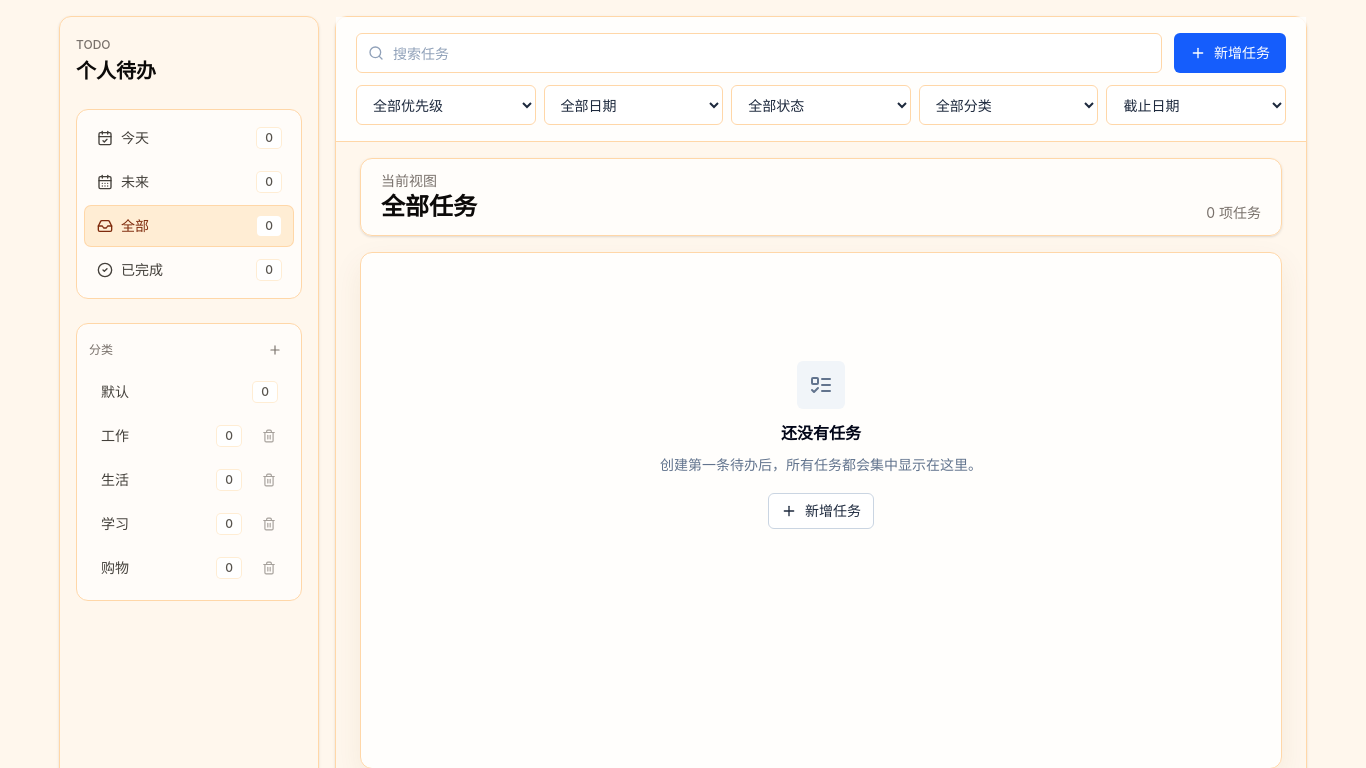
Test case: App layout › creates and edits a todo from the editor
This screenshot has width=1366, height=768.
Click the 1st button "新增任务" at (1230,53), box [1174,33,1286,73]
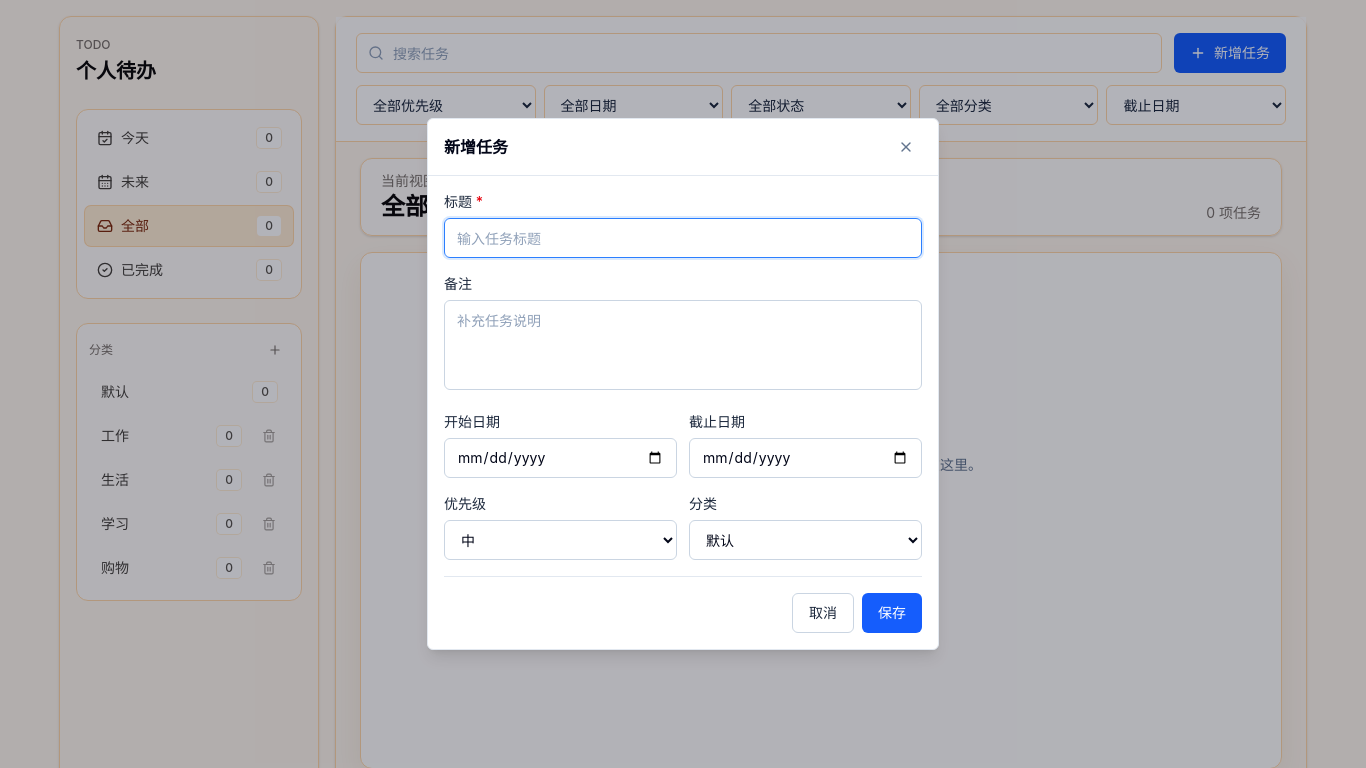
Type "写阶段 7" into the field labelled "标题" at (683,238), box [444,218,922,258]
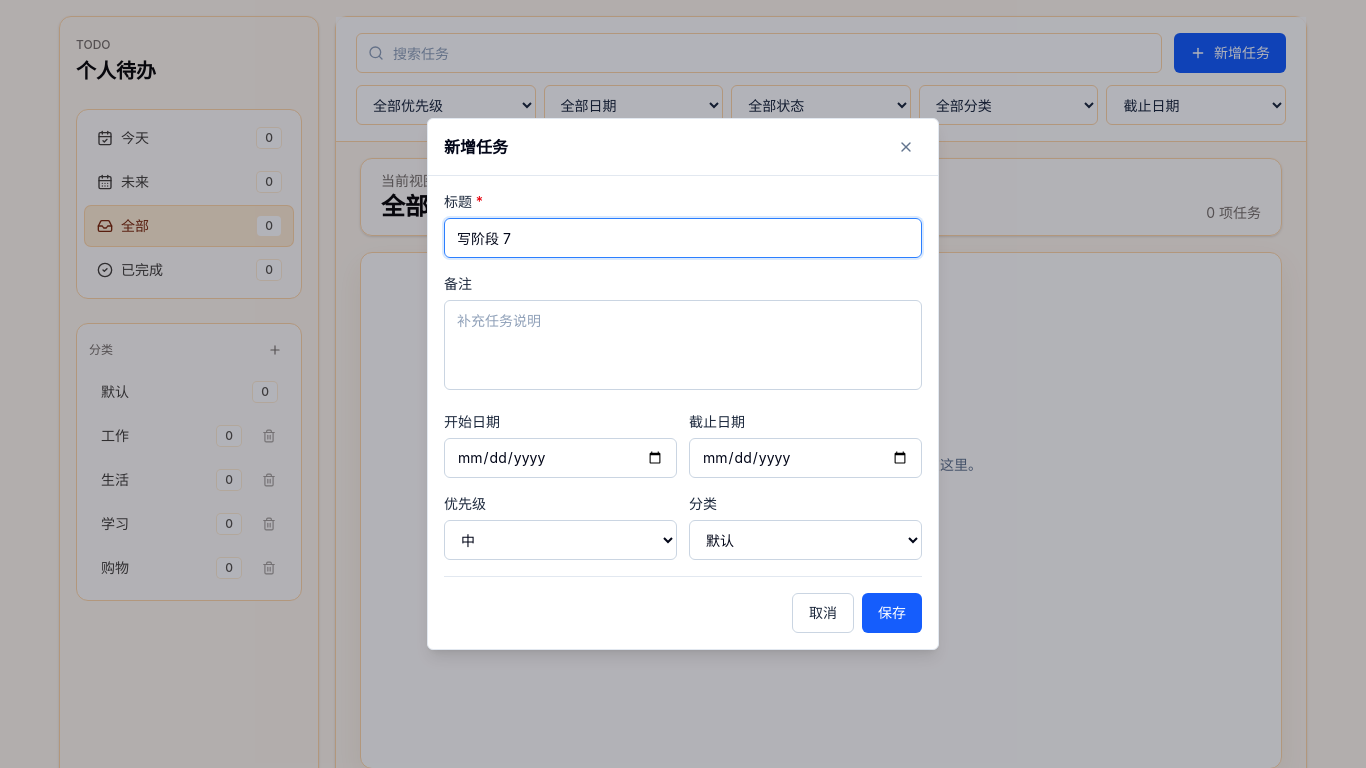
Click the button "保存" at (892,613), box [862,593,922,633]
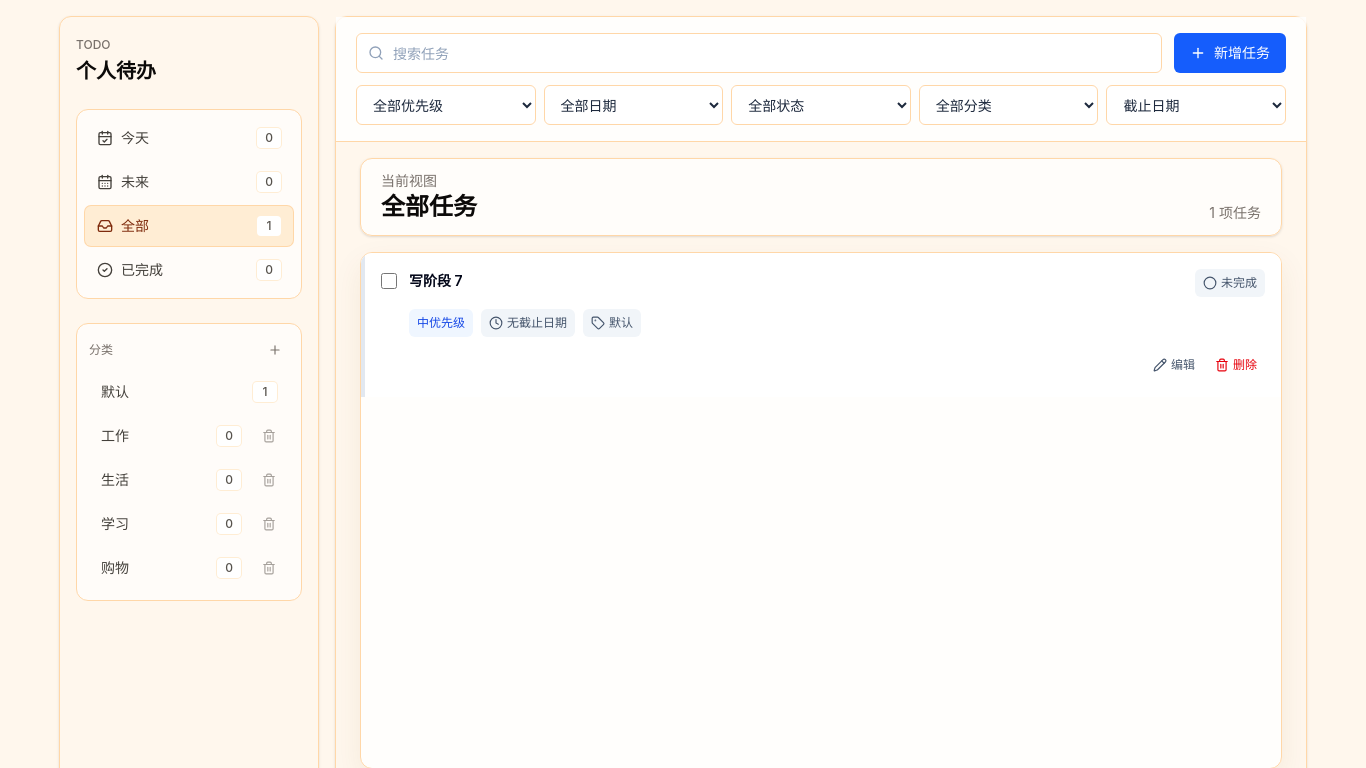
Now the heading "写阶段 7" is shown, box [409,269,463,293]
Now the dialog is gone
Click the button with aria-label "编辑 写阶段 7" at (1174,365), box [1145,349,1203,381]
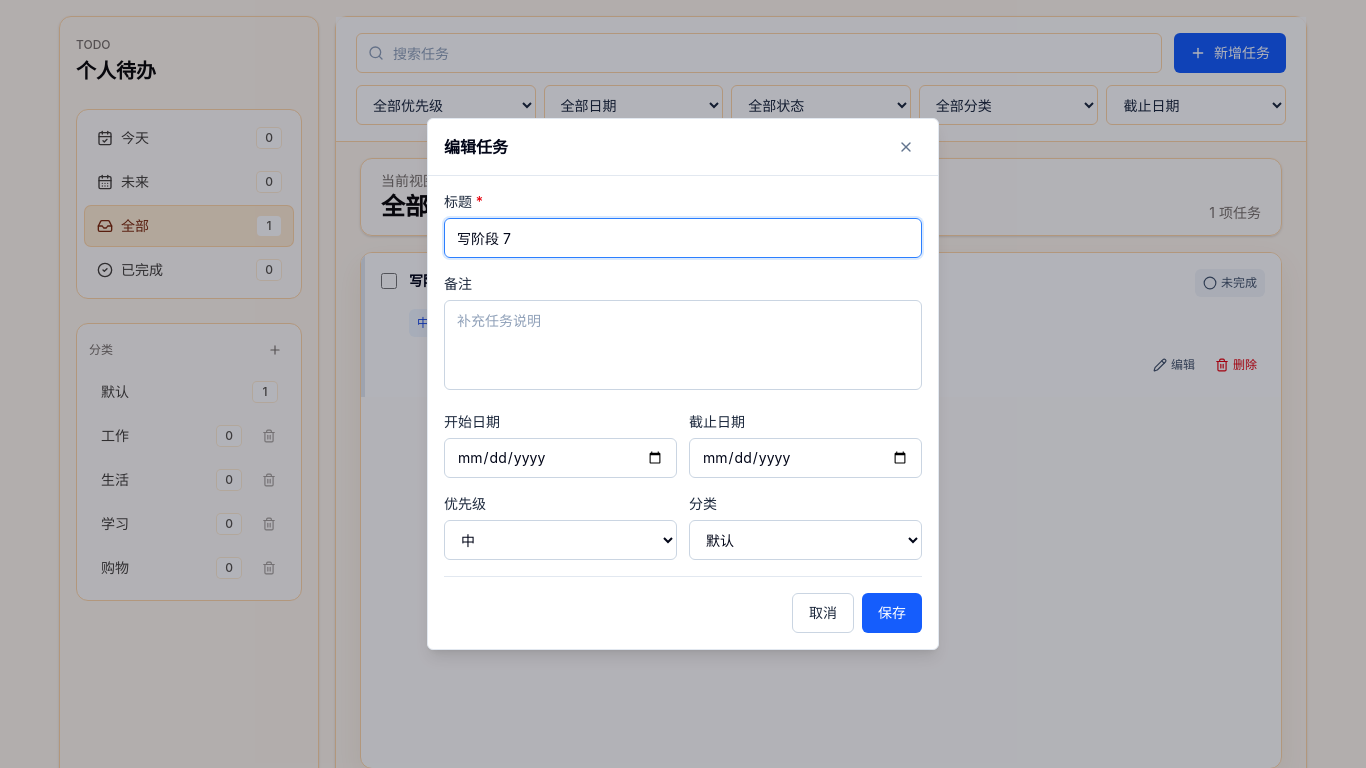
Replace the text in the field labelled "标题" with "完善阶段 7" at (683,238), box [444,218,922,258]
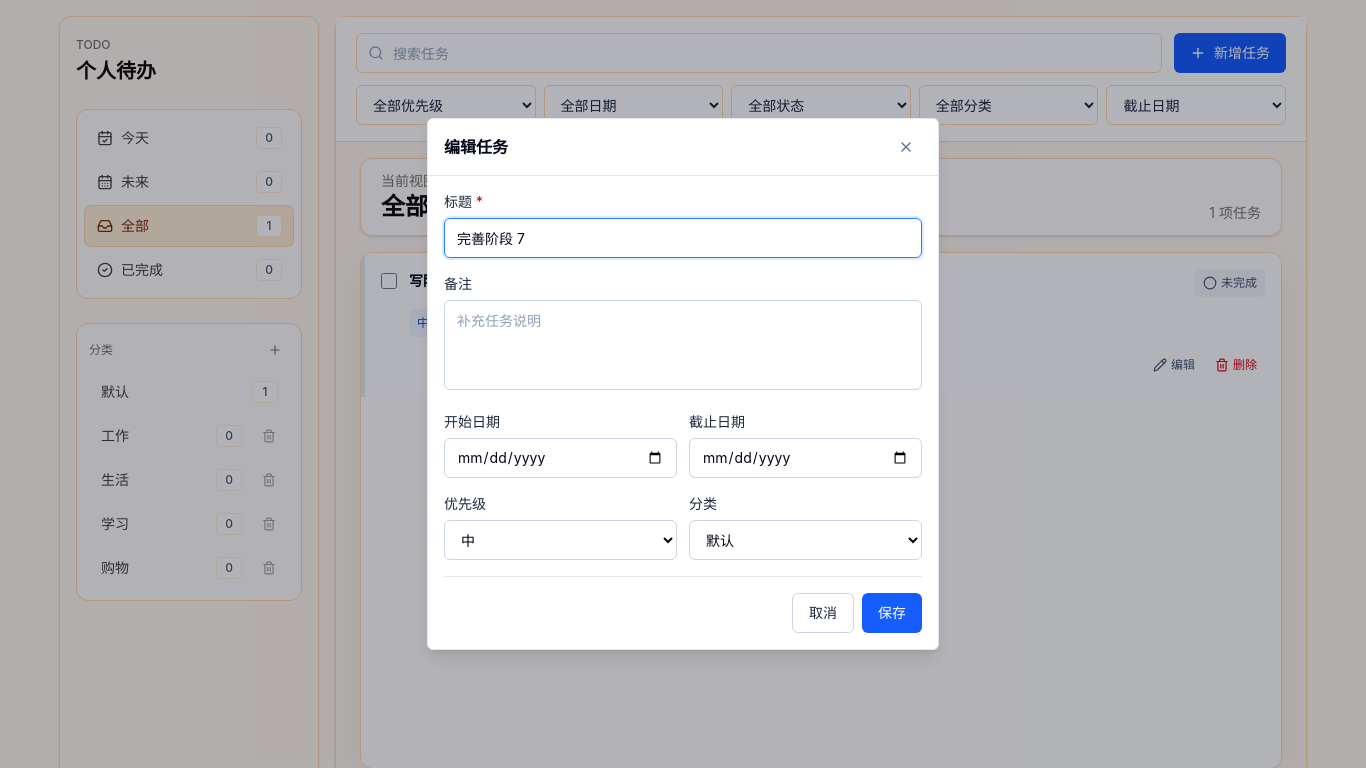
Click the button "保存" at (892,613), box [862,593,922,633]
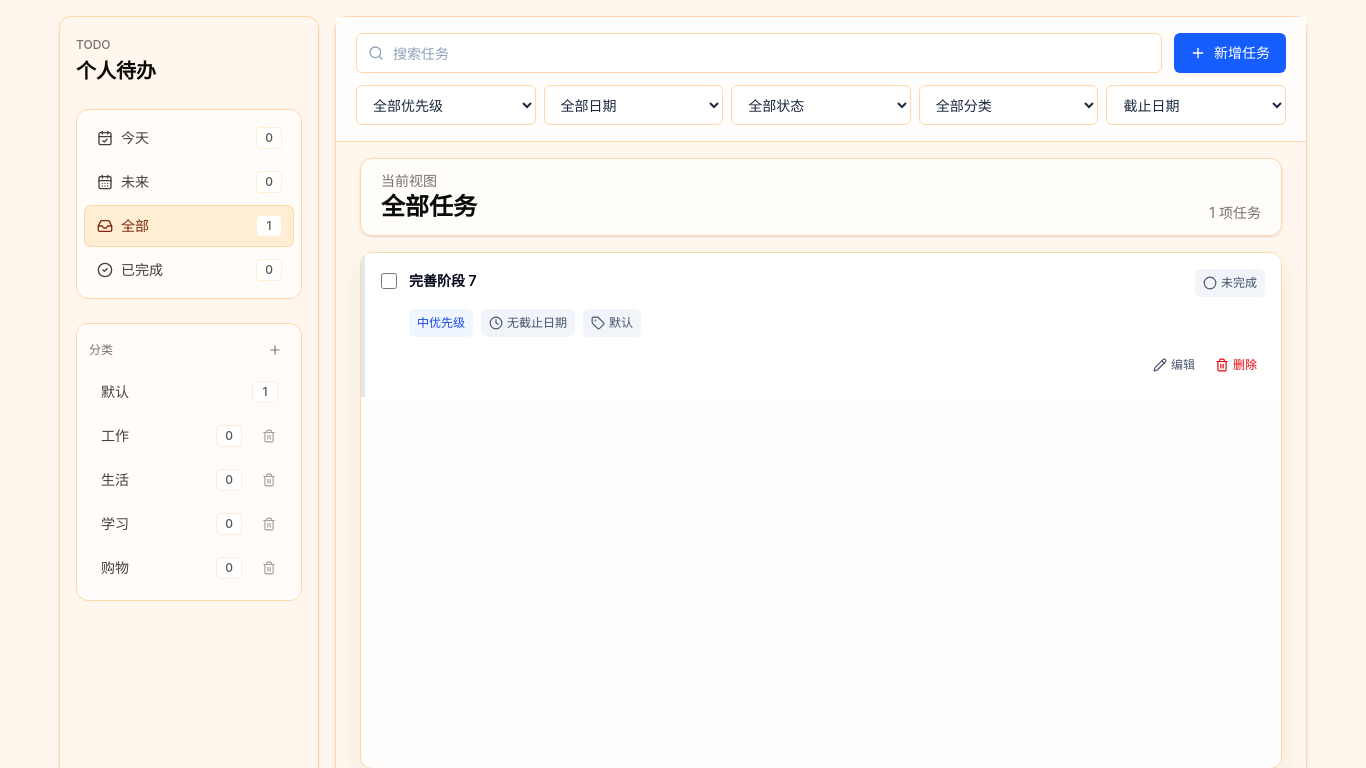
Now the heading "完善阶段 7" is shown, box [409,269,477,293]
Now the heading "写阶段 7" is gone
